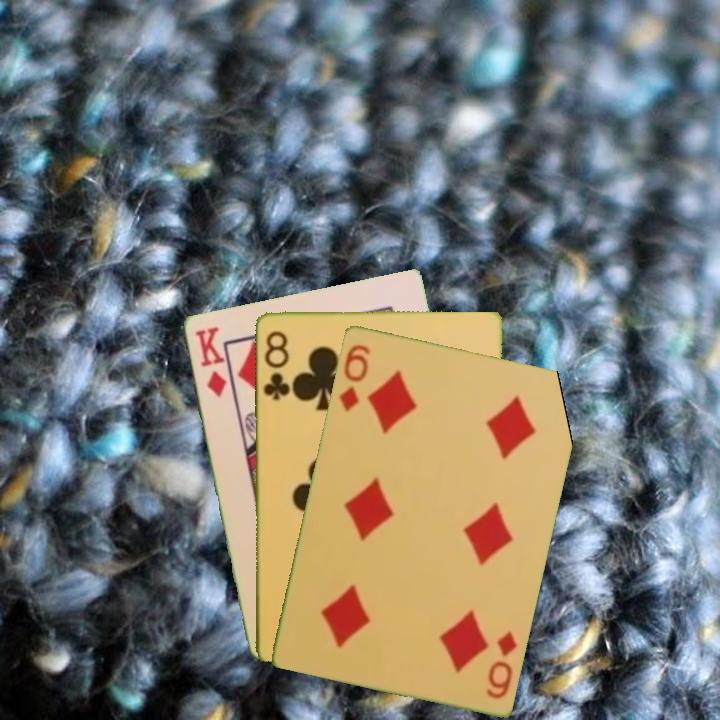6d: (335, 340, 373, 414), (482, 627, 519, 701)
8c: (259, 326, 292, 402)
Kd: (191, 323, 230, 400)
